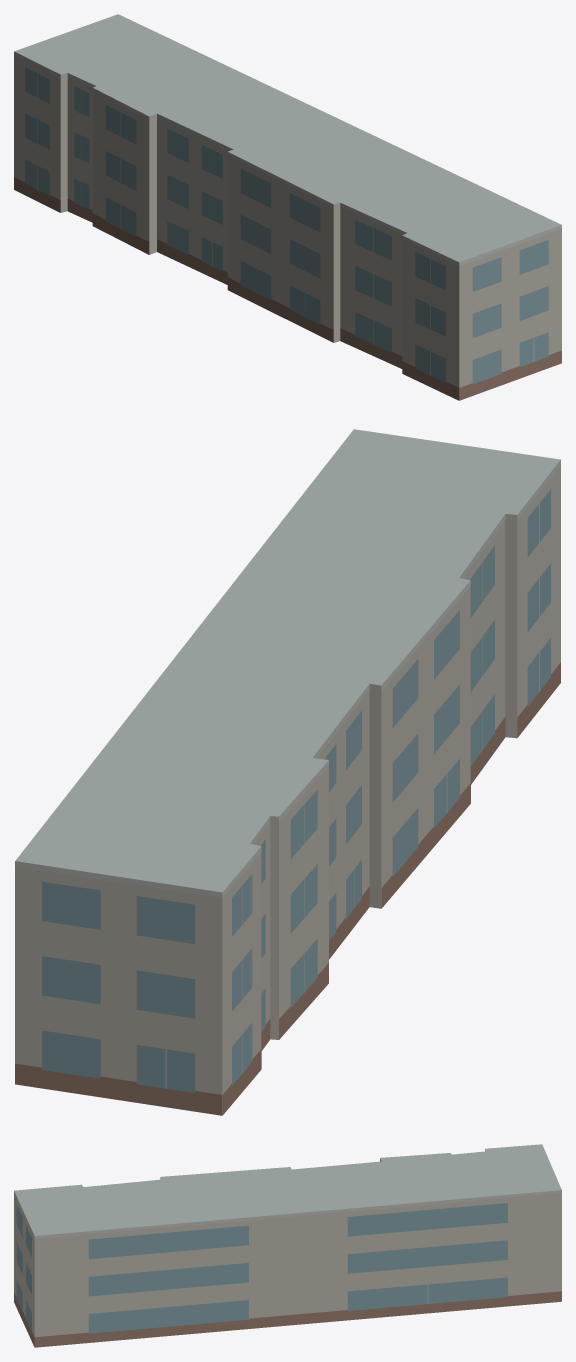
The model's file is survey-upis-32905157.glb.
The picture shows the model from 3 angles, top to bottom: view 1: azimuth 30°, elevation 25°; view 2: azimuth 150°, elevation 25°; view 3: azimuth 270°, elevation 25°; orthographic projection. The views are drawn at different scales.
Visible parts, largest first — view 1: survey-upis-32905157.tmp; view 2: survey-upis-32905157.tmp; view 3: survey-upis-32905157.tmp.
Boxes of the visible parts, x1,y1,x2,y2 form: survey-upis-32905157.tmp: (14, 14, 561, 400); survey-upis-32905157.tmp: (15, 429, 560, 1115); survey-upis-32905157.tmp: (14, 1144, 561, 1347).
Size of the model in its own units: 16.14 by 9.15 by 40.7.
